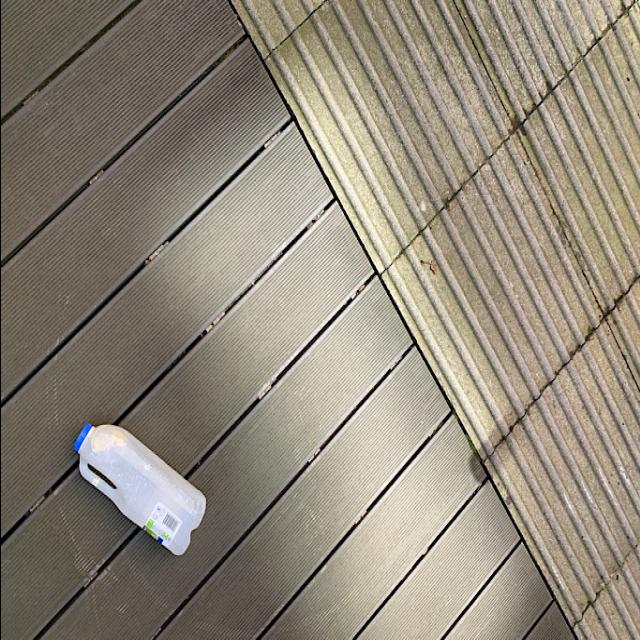litter: (71, 415, 208, 555)
